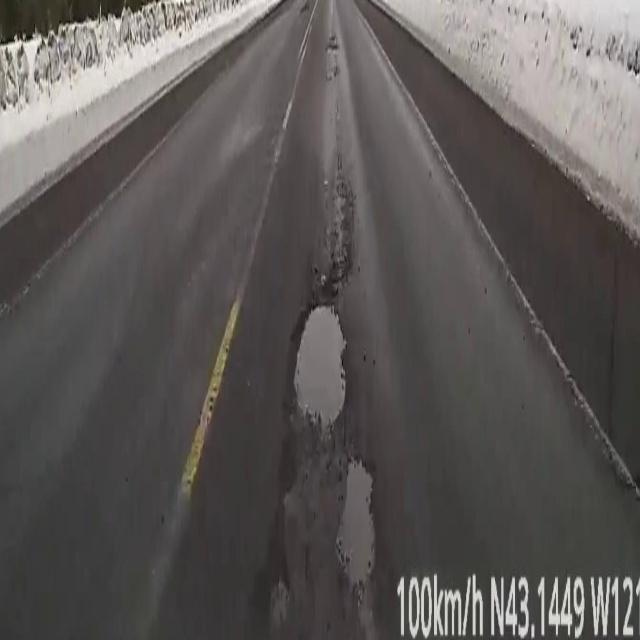pothole: (261, 426, 377, 568)
